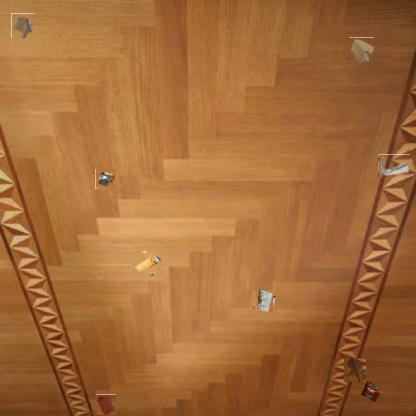dirty: (378, 154, 410, 177), (348, 37, 374, 64), (135, 250, 161, 276), (358, 378, 382, 404), (11, 13, 34, 38), (254, 290, 274, 312), (96, 169, 116, 190)
liquid: (344, 358, 366, 382), (96, 394, 116, 415)
